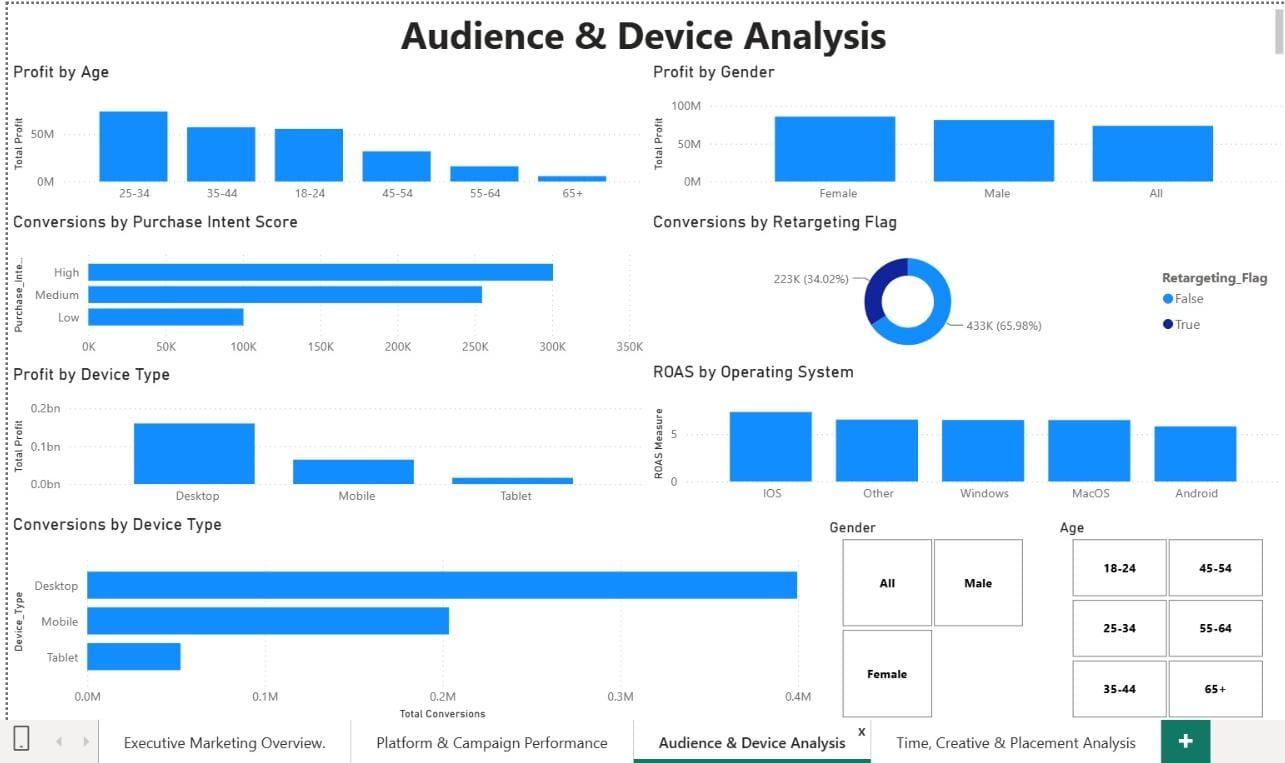

The page's visual inventory and layout, read from the dashboard file:
{"tool":"powerbi","page":{"name":"Audience & Device Analysis","canvas":[1280,720],"ordinal":2},"visuals":[{"type":"textbox","box":[0,0,1280,57.1],"z":0},{"type":"clusteredColumnChart","title":"Profit by Age","fields":{"Category":["tech_advertising_campaigns_data.Target_Audience_Age"],"Y":["tech_advertising_campaigns_data.Total Profit"]},"box":[0,57.1,640,150],"z":1000},{"type":"clusteredColumnChart","title":"Profit by Gender","fields":{"Category":["tech_advertising_campaigns_data.Target_Audience_Gender"],"Y":["tech_advertising_campaigns_data.Total Profit"]},"box":[640,57.1,640,150],"z":1001},{"type":"clusteredBarChart","title":"Conversions by Purchase Intent Score","fields":{"Category":["tech_advertising_campaigns_data.Purchase_Intent_Score"],"Y":["tech_advertising_campaigns_data.Total Conversions"]},"box":[0,207.1,640,152.9],"z":1002},{"type":"donutChart","title":" Conversions by Retargeting Flag","fields":{"Category":["tech_advertising_campaigns_data.Retargeting_Flag"],"Y":["tech_advertising_campaigns_data.Total Conversions"]},"box":[640,207.1,640,150],"z":1003},{"type":"clusteredColumnChart","title":"Profit by Device Type","fields":{"Y":["tech_advertising_campaigns_data.Total Profit"],"Category":["tech_advertising_campaigns_data.Device_Type"]},"box":[0,360,640,150],"z":1004},{"type":"clusteredColumnChart","title":"ROAS  by Operating System","fields":{"Category":["tech_advertising_campaigns_data.Operating_System"],"Y":["tech_advertising_campaigns_data.ROAS Measure"]},"box":[640,357.1,638.6,150],"z":1005},{"type":"clusteredBarChart","title":" Conversions by Device Type","fields":{"Category":["tech_advertising_campaigns_data.Device_Type"],"Y":["tech_advertising_campaigns_data.Total Conversions"]},"box":[0,510,808.6,210],"z":1006},{"type":"slicer","fields":{"Values":["tech_advertising_campaigns_data.Target_Audience_Gender"]},"box":[808.6,510,230,210],"z":1007},{"type":"slicer","fields":{"Values":["tech_advertising_campaigns_data.Target_Audience_Age"]},"box":[1038.6,510,240,210],"z":1008}]}

Visuals, with their boxes on the page's 1280x720 design canvas (x1, y1, x2, y2). These are canvas units, not pixel positions in the 1285x763 screenshot, which may show the page scaled, cropped or inside an application window:
textbox: <box>0,0,1280,57</box>
"Profit by Age" clusteredColumnChart: <box>0,57,640,207</box>
"Profit by Gender" clusteredColumnChart: <box>640,57,1280,207</box>
"Conversions by Purchase Intent Score" clusteredBarChart: <box>0,207,640,360</box>
" Conversions by Retargeting Flag" donutChart: <box>640,207,1280,357</box>
"Profit by Device Type" clusteredColumnChart: <box>0,360,640,510</box>
"ROAS  by Operating System" clusteredColumnChart: <box>640,357,1279,507</box>
" Conversions by Device Type" clusteredBarChart: <box>0,510,809,720</box>
slicer - tech_advertising_campaigns_data.Target_Audience_Gender: <box>809,510,1039,720</box>
slicer - tech_advertising_campaigns_data.Target_Audience_Age: <box>1039,510,1279,720</box>
